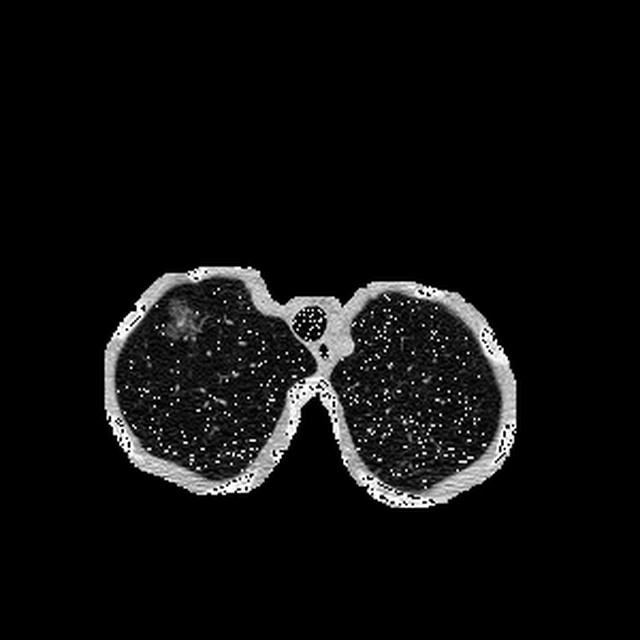PN: (164, 303, 198, 337)
